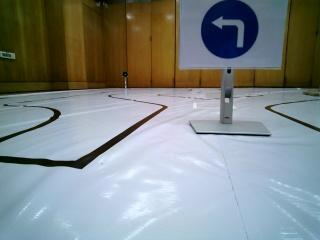left: (181, 4, 282, 71)
